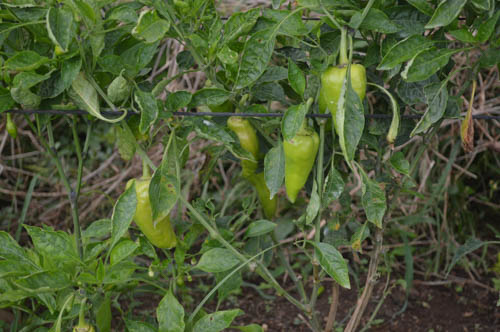ChiliPepper: (229, 119, 278, 214), (126, 180, 176, 249), (322, 66, 366, 131), (282, 133, 317, 206)
